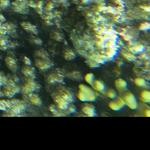dead: (1, 1, 148, 112)
